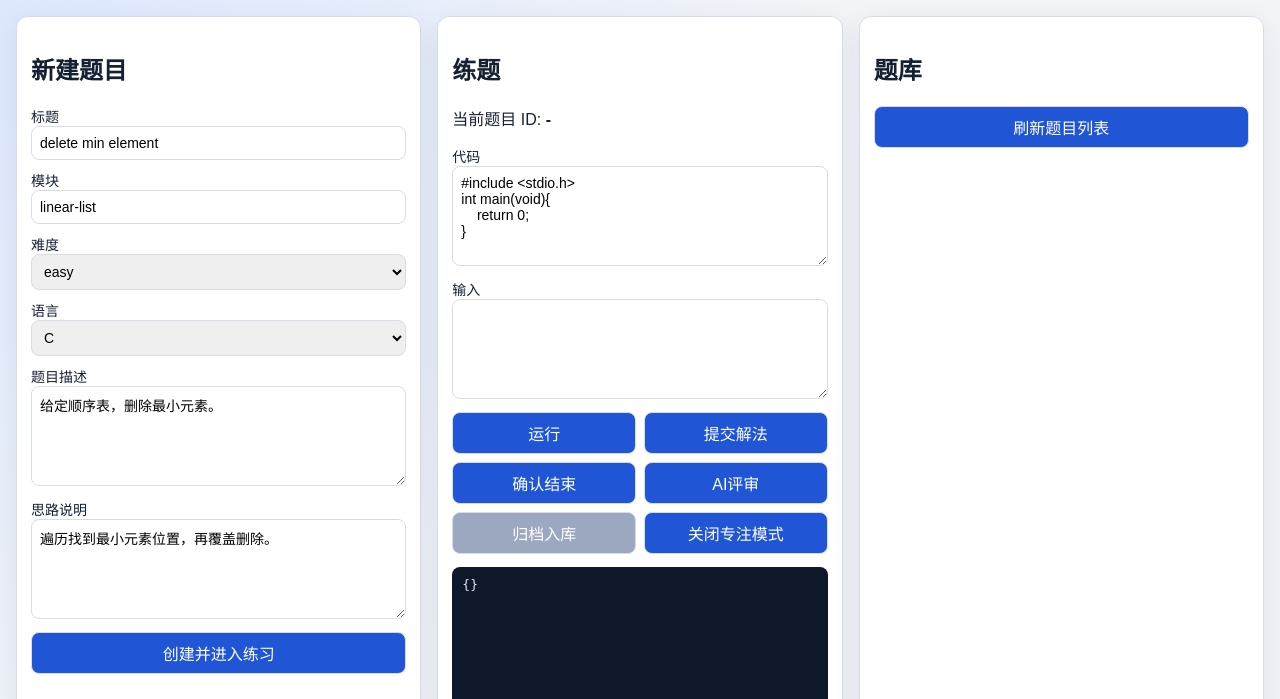
Test: renders review history after multiple reviews
Click the button "创建并进入练习" at (219, 653), box [31,632,406,674]
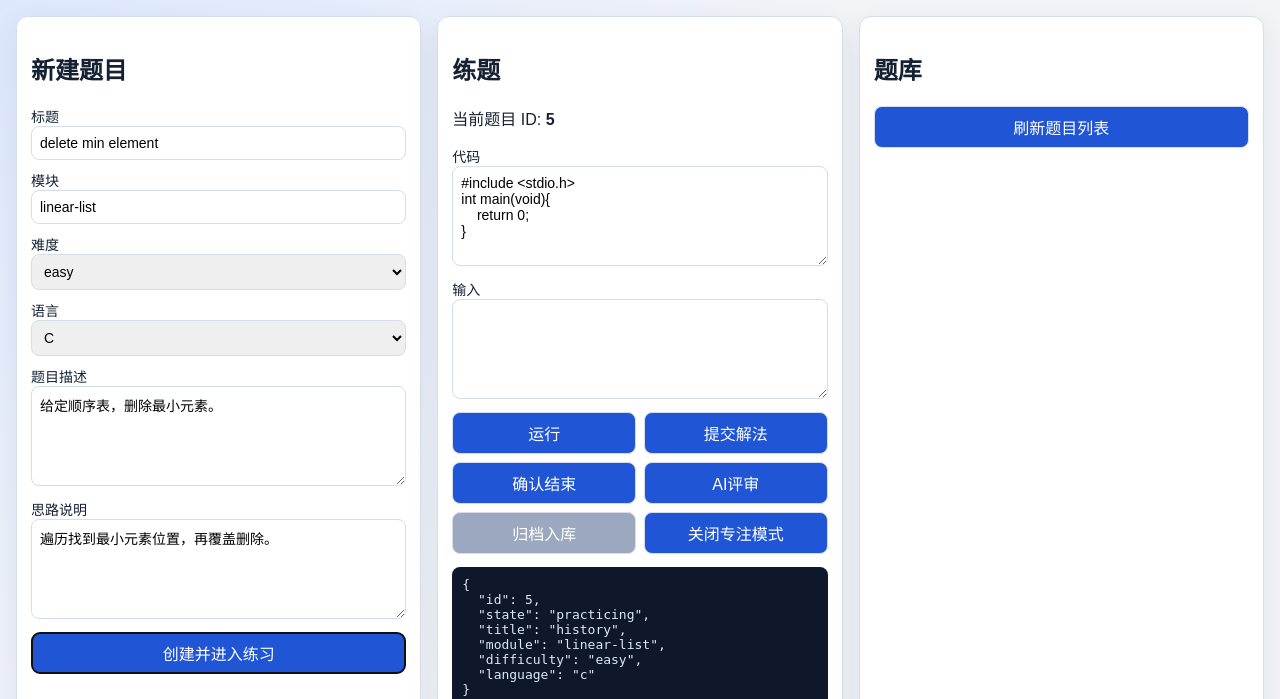
Click the button "AI评审" at (736, 483), box [644,462,828,504]
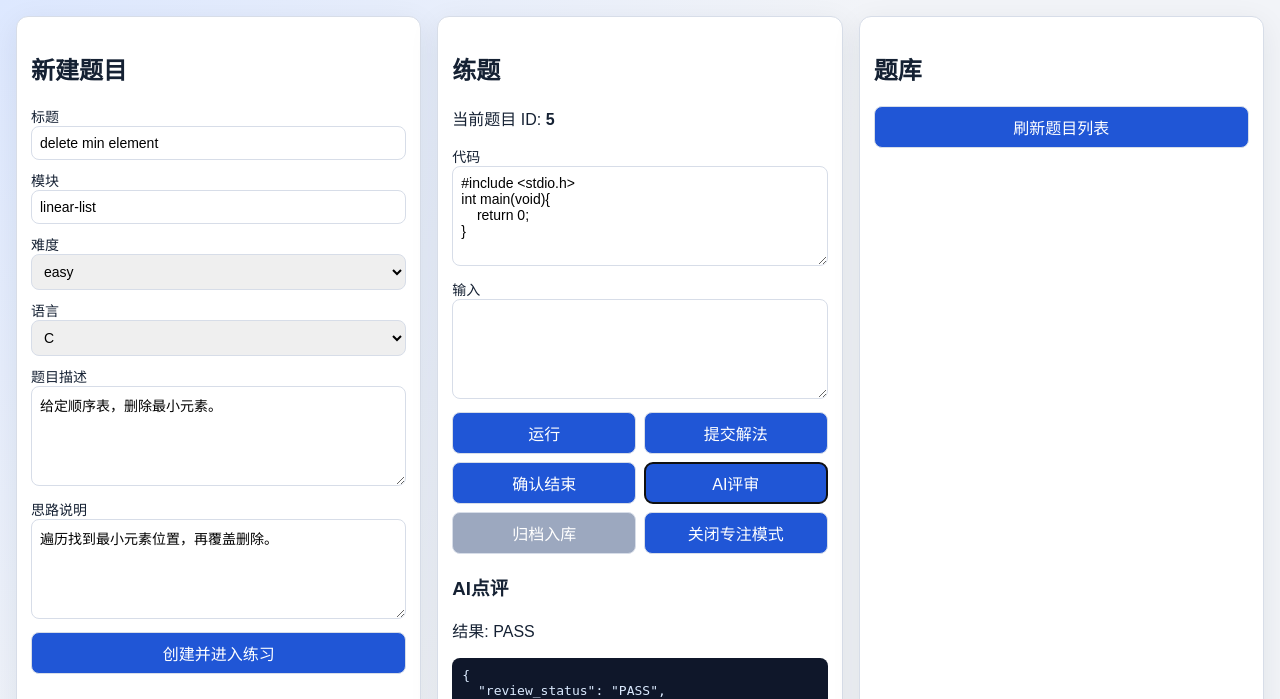
Click the button "AI评审" at (736, 483), box [644,462,828,504]
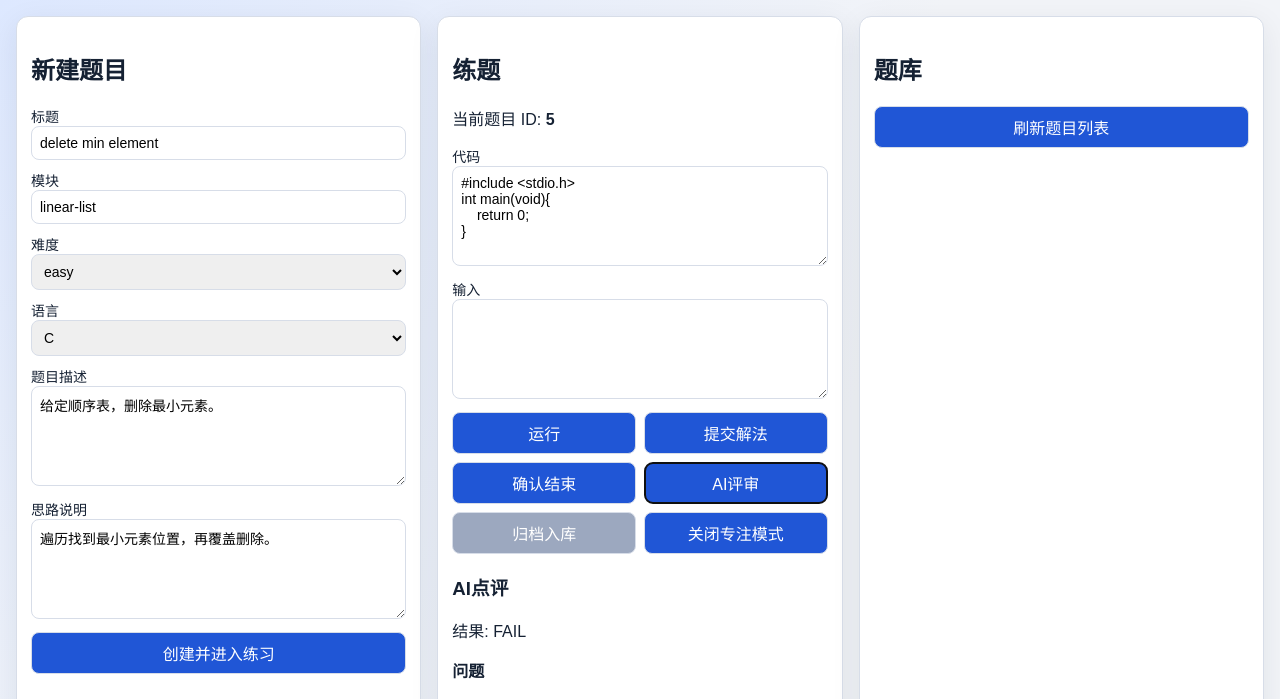
Click the button "关闭专注模式" at (736, 533), box [644,512,828,554]
(page scrolled)
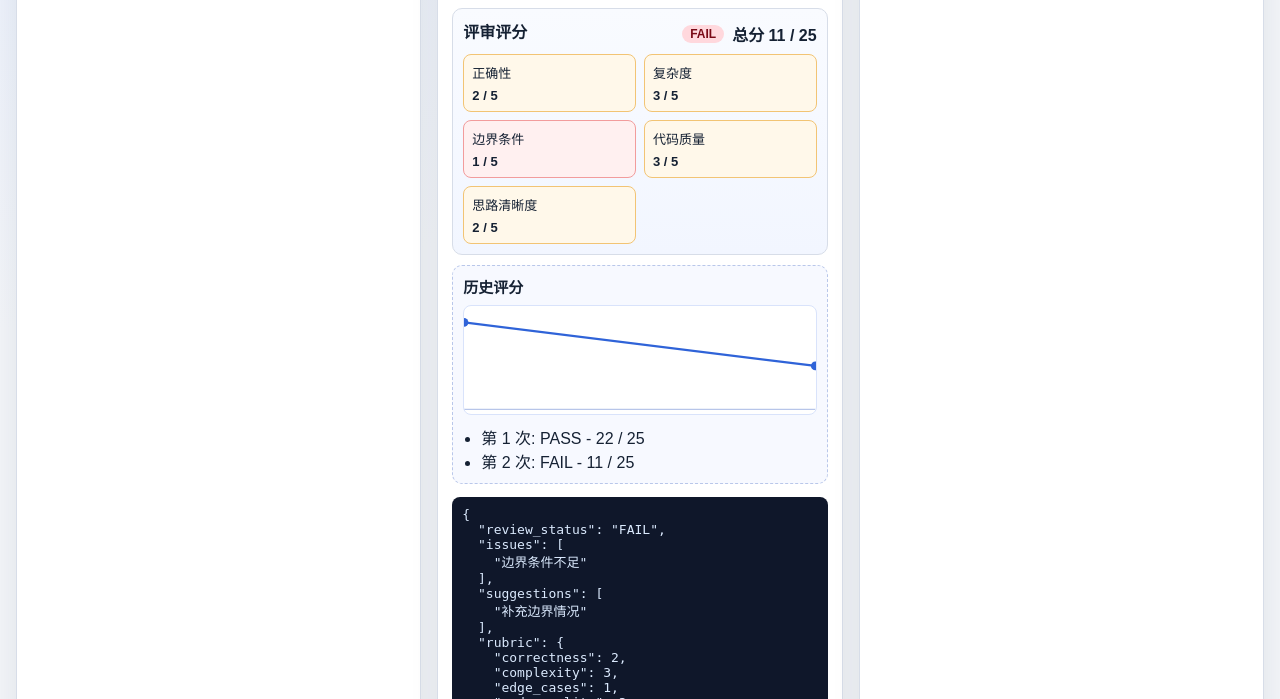
Expected: the heading "历史评分" is shown, [463,279,523,296]
Expected: the list item "第 1 次: PASS - 22 / 25" is shown, [481,430,645,447]
Expected: the list item "第 2 次: FAIL - 11 / 25" is shown, [481,454,634,471]
